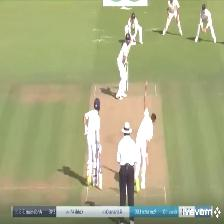batsman: (114, 31, 137, 101)
